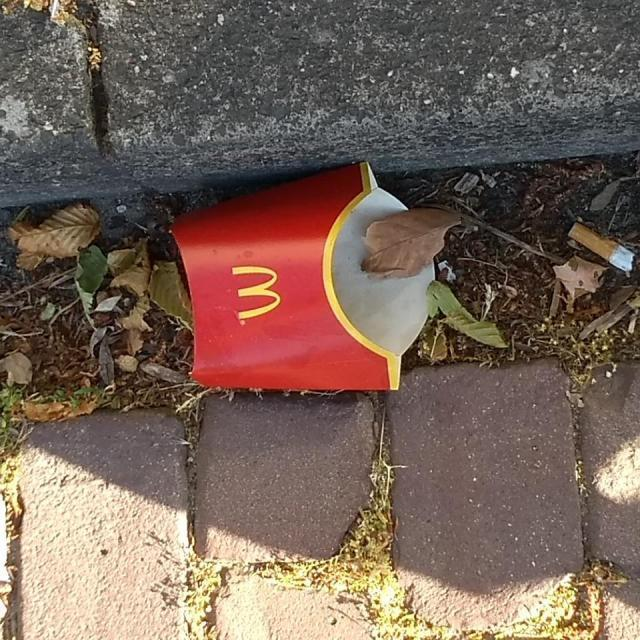Paper: (166, 158, 437, 394)
